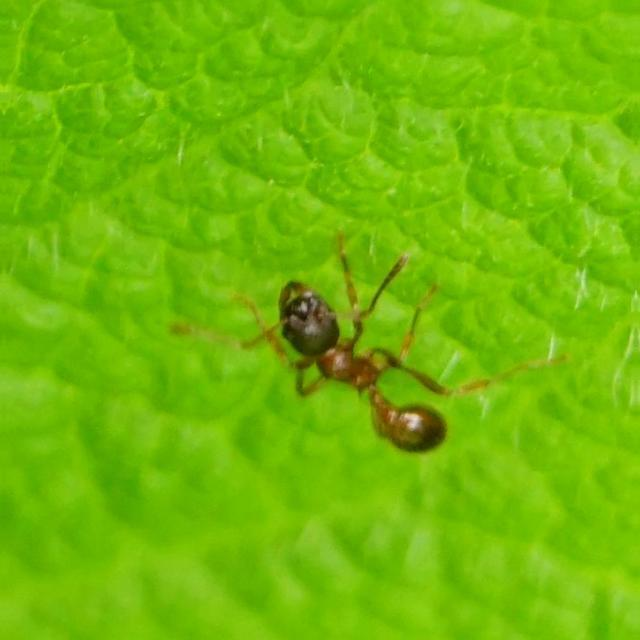Myrmica: (236, 217, 524, 498)
